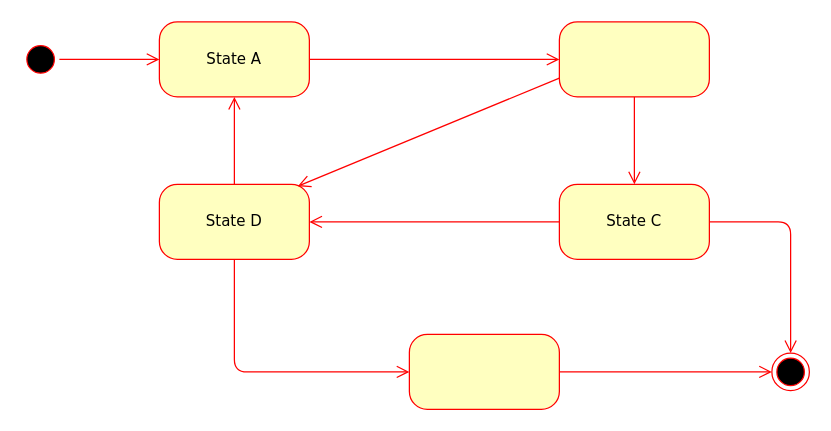
This 831x431 diagram has some shape labels left out. Here are the shapes that lost their labels. From the top down, the centre of each, then its label:
the point at 633,59: State B
the point at 483,371: State E
